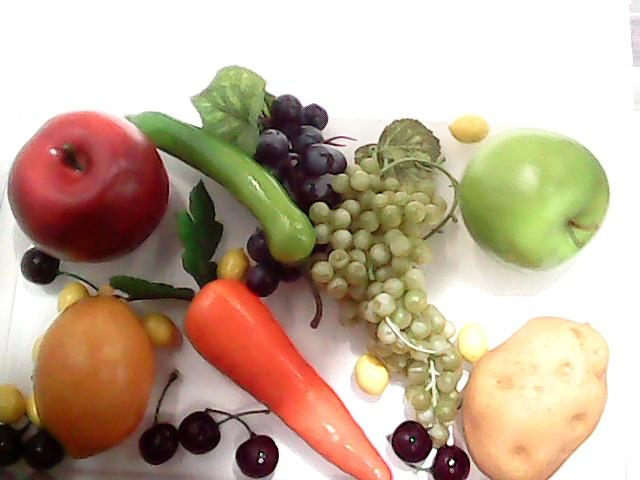apple: (2, 105, 174, 263), (454, 126, 614, 278)
carrot: (110, 178, 394, 480)
grape: (310, 156, 480, 452), (240, 94, 348, 298)
lemon: (29, 284, 160, 456)
pepper: (118, 99, 320, 273)
potato: (460, 310, 612, 480)
